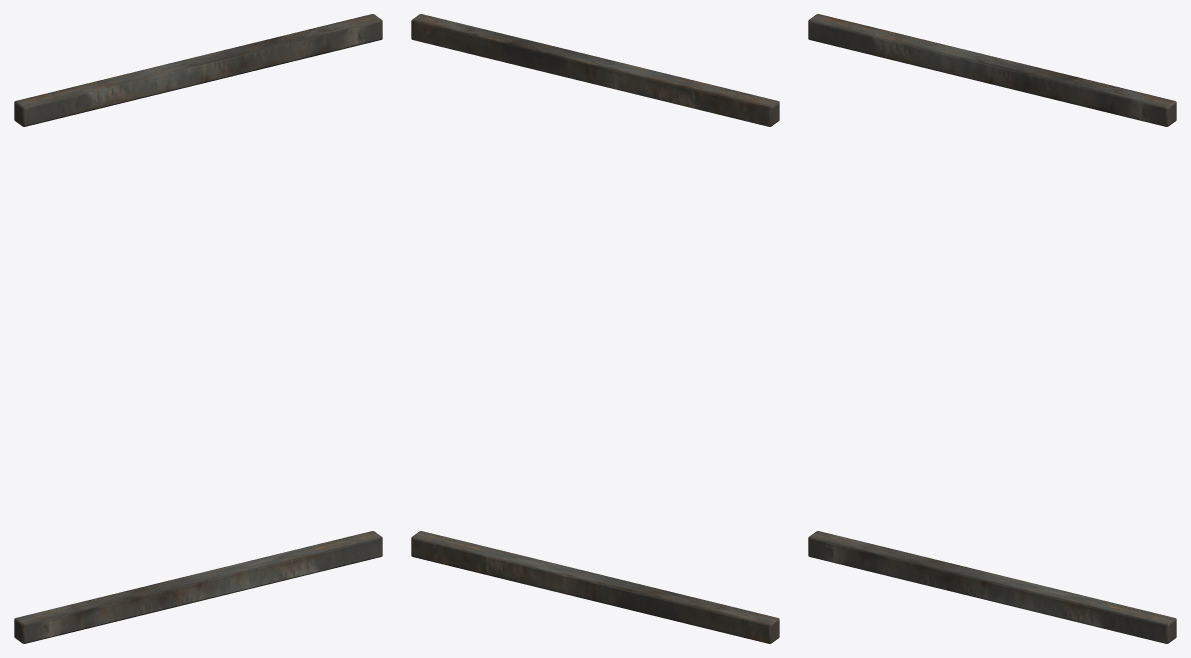
File: wall_008.glb
The picture shows the model from 3 angles, left to right: view 1: azimuth 30°, elevation 25°; view 2: azimuth 150°, elevation 25°; view 3: azimuth 330°, elevation 25°; orthographic projection.
Parts seen in each view (by area): view 1: Building_12_069; view 2: Building_12_069; view 3: Building_12_069.
Boxes of the visible parts, x1,y1,x2,y2 form: Building_12_069: (14, 14, 382, 643); Building_12_069: (411, 14, 779, 643); Building_12_069: (808, 14, 1176, 643).
Size of the model in its own units: 1.4 by 2 by 0.0655.
Materials: 1 (1 with a texture image).
